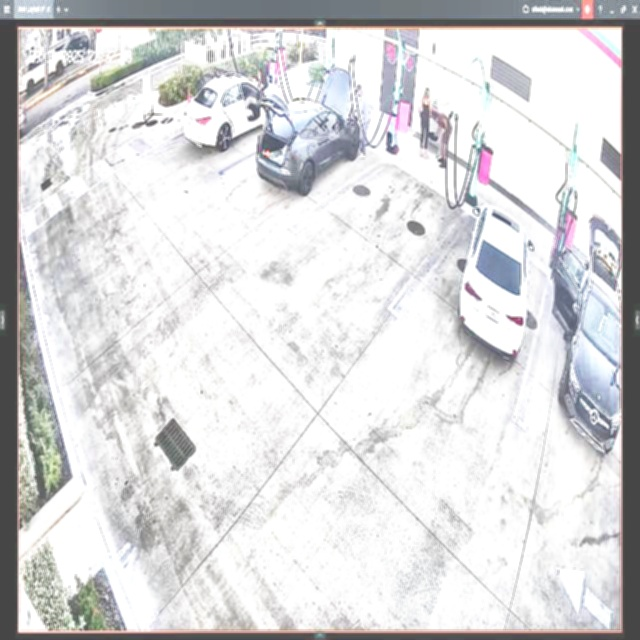Car: (260, 66, 360, 190), (457, 204, 533, 362), (184, 73, 286, 149)
